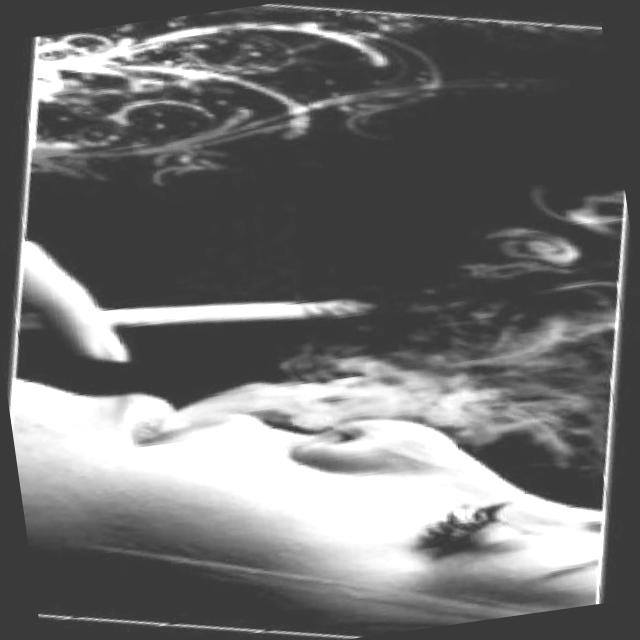smoke: (11, 184, 386, 393)
